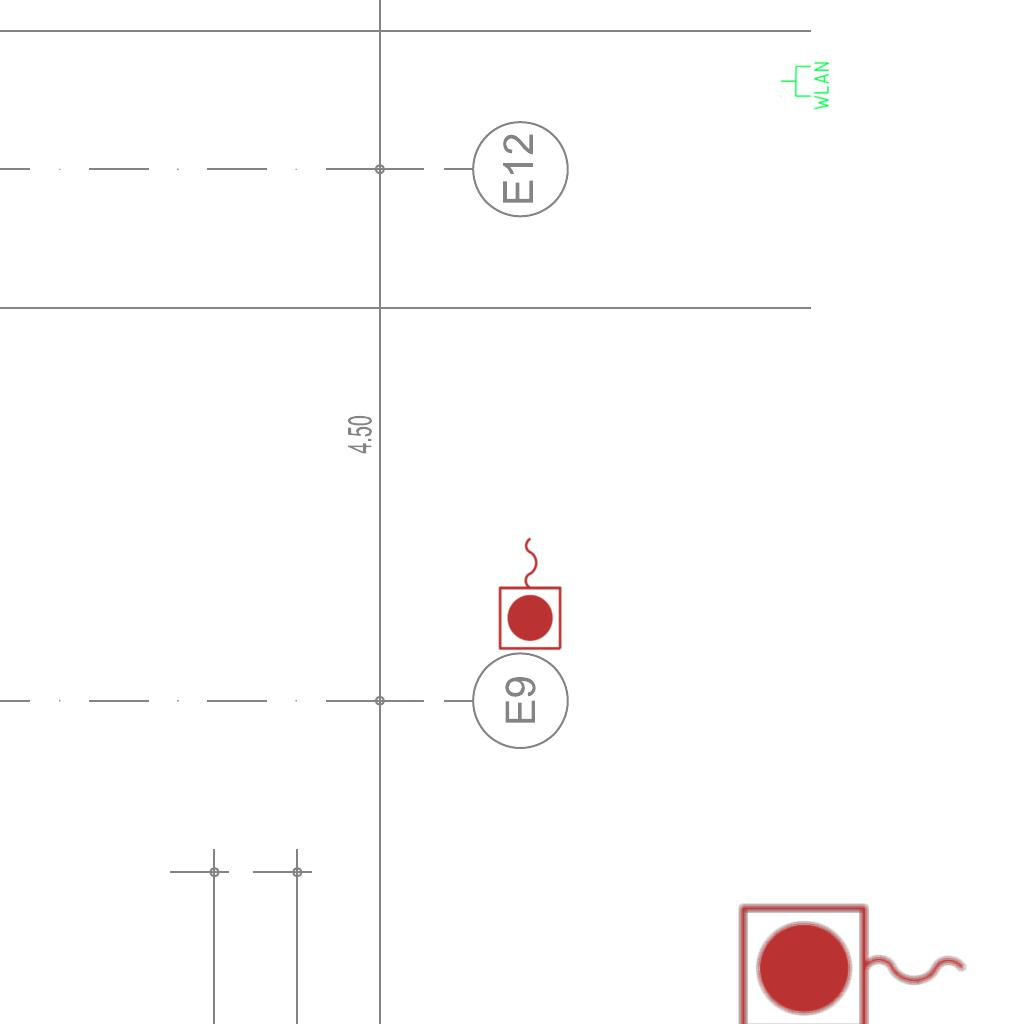WLAN: (779, 60, 831, 112)
Zugtaster: (732, 898, 976, 1024), (495, 532, 567, 654)
